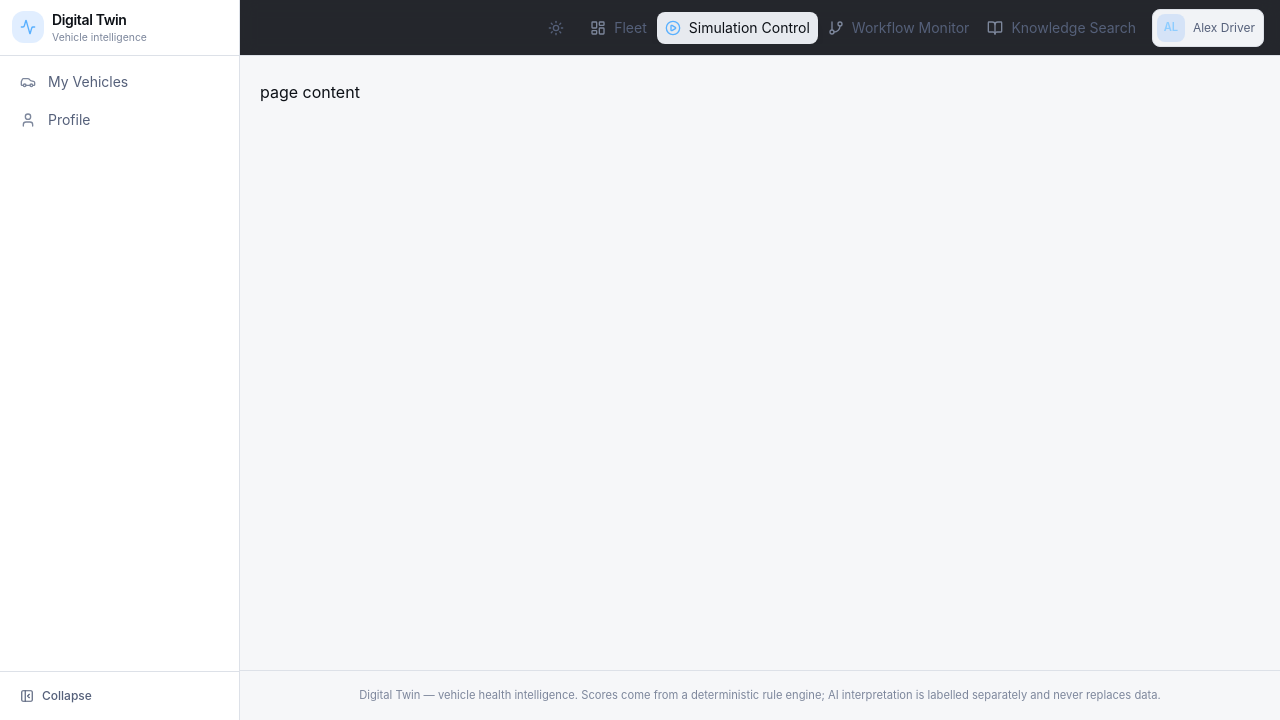
AppShell header section navigation › keeps the Admin profile menu working
The image size is (1280, 720).
Expected: the text "page content" is shown, [260, 82, 360, 102]
Click the button with aria-label "account menu". click: [1208, 28]
box: [1152, 8, 1264, 46]
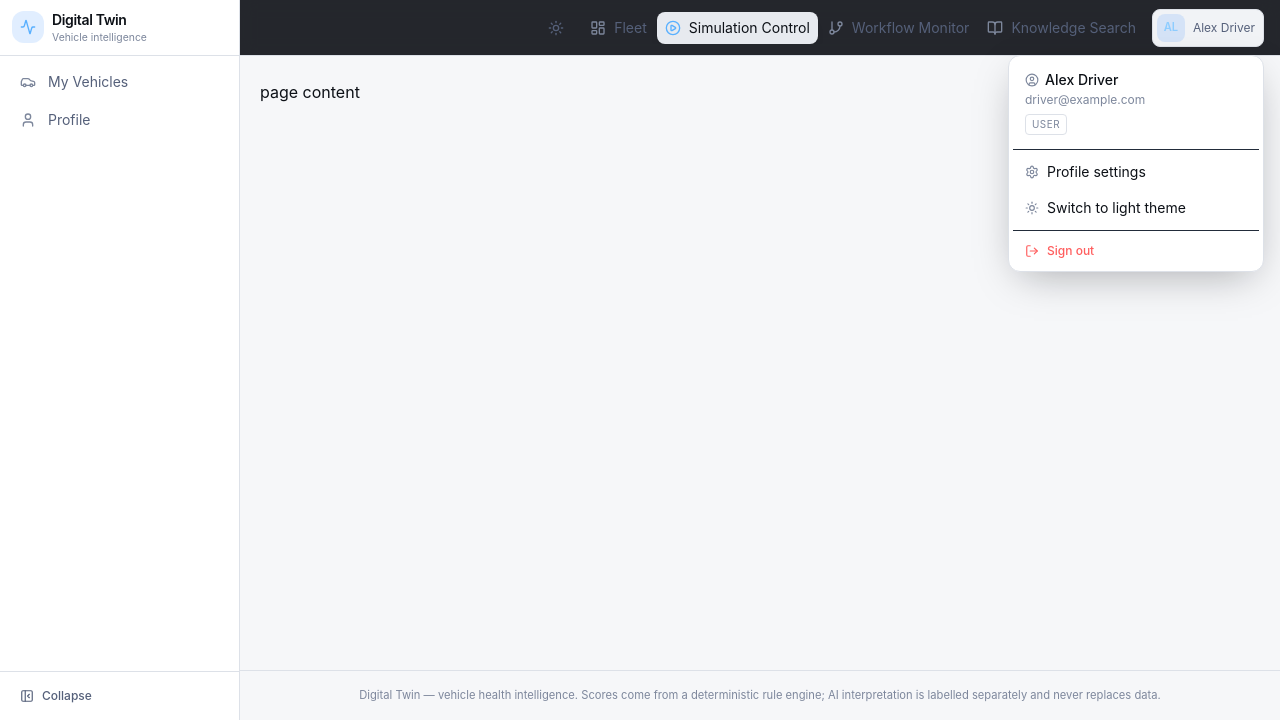
Now the menu item "Profile settings" is shown, box [1025, 163, 1146, 180]
Now the menu item "Sign out" is shown, box [1013, 235, 1259, 267]
